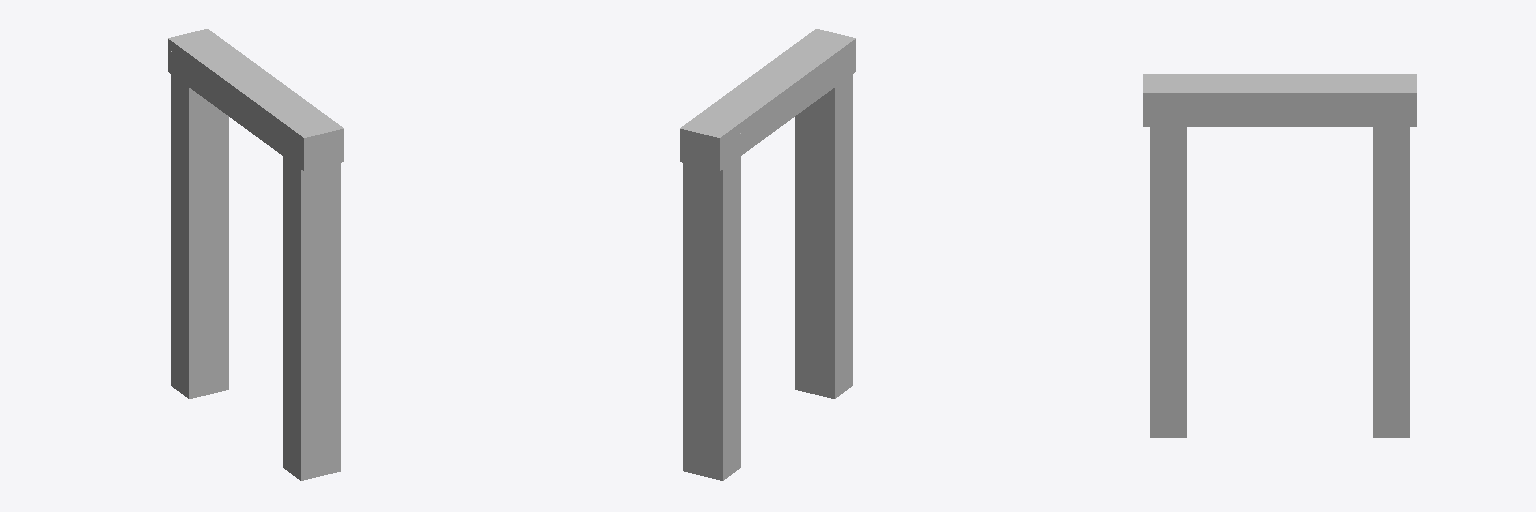
Rendered from doorframe_uv.obj.
3 renders of one model, left to right at view 1: azimuth 30°, elevation 25°; view 2: azimuth 150°, elevation 25°; view 3: azimuth 270°, elevation 25°, orthographic.
Visible parts, largest first — view 1: DoorPillarLeft Door MainBuilding, Door MainBuilding DoorPillarRight, Door MainBuilding DoorPillarTop; view 2: Door MainBuilding DoorPillarRight, DoorPillarLeft Door MainBuilding, Door MainBuilding DoorPillarTop; view 3: Door MainBuilding DoorPillarTop, DoorPillarLeft Door MainBuilding, Door MainBuilding DoorPillarRight.
Part boxes in pixels (x1,y1,x2,y2): DoorPillarLeft Door MainBuilding: (283, 145, 340, 480); Door MainBuilding DoorPillarRight: (171, 51, 228, 398); Door MainBuilding DoorPillarTop: (168, 29, 343, 171); Door MainBuilding DoorPillarRight: (683, 133, 740, 480); DoorPillarLeft Door MainBuilding: (795, 51, 852, 398); Door MainBuilding DoorPillarTop: (680, 29, 855, 171); Door MainBuilding DoorPillarTop: (1143, 74, 1416, 126); DoorPillarLeft Door MainBuilding: (1150, 104, 1186, 437); Door MainBuilding DoorPillarRight: (1373, 127, 1409, 437).
Bounding box in the file's own units: 0.5003 × 4.13 × 2.96.